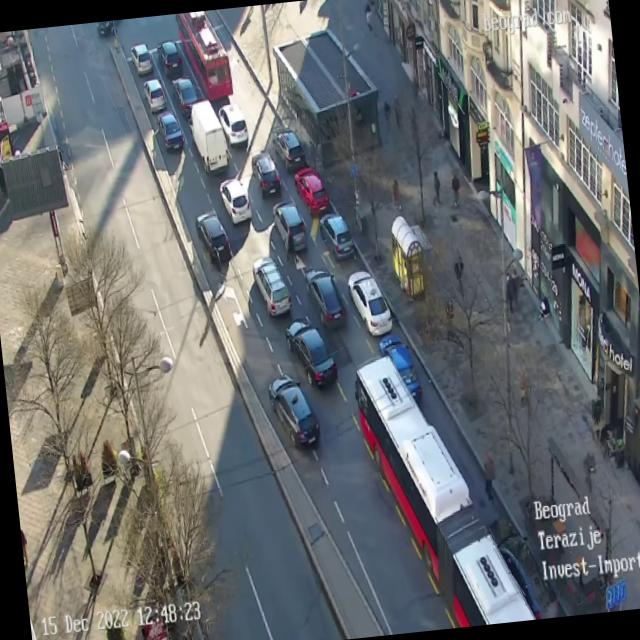bus: (350, 340, 536, 634), (175, 9, 239, 102)
car: (265, 366, 319, 454), (285, 318, 334, 392), (346, 267, 393, 337), (189, 100, 230, 174), (248, 254, 294, 316), (307, 268, 348, 334), (379, 338, 419, 398), (193, 206, 233, 265), (250, 148, 286, 202), (317, 213, 355, 263), (293, 170, 330, 218), (218, 178, 251, 228), (274, 204, 308, 252), (218, 100, 250, 148), (156, 110, 187, 158), (274, 128, 304, 169), (172, 79, 200, 114), (142, 78, 169, 114), (128, 40, 154, 76), (158, 42, 182, 76), (96, 20, 120, 41)
